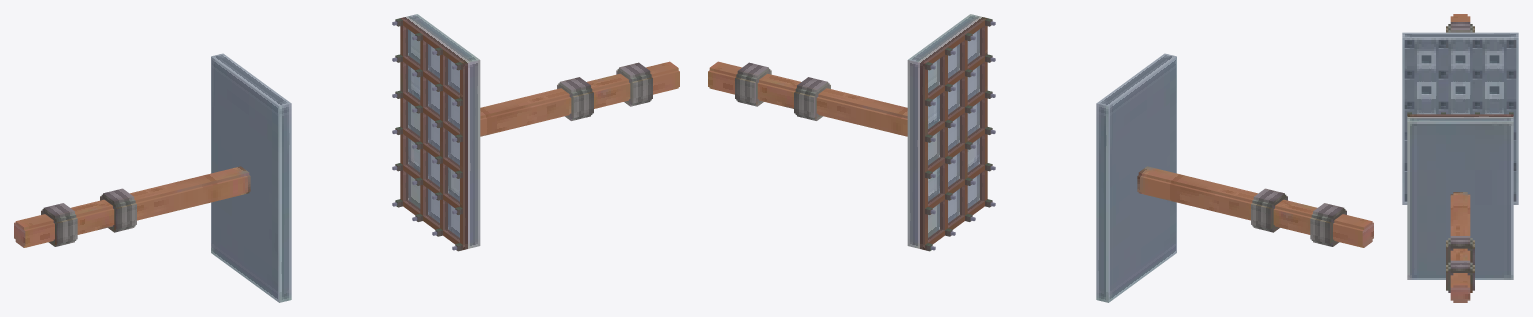
Rendered from trap-23_2.glb.
3 views of the same model, side by side, from view 1: azimuth 30°, elevation 25°; view 2: azimuth 150°, elevation 25°; view 3: azimuth 270°, elevation 25° (orthographic). The views are drawn at different scales.
Visible parts, largest first — view 1: Base$$(1)-Local; view 2: Base$$(1)-Local; view 3: Base$$(1)-Local.
Part boxes in pixels (x1,y1,x2,y2): Base$$(1)-Local: (14,14,679,302); Base$$(1)-Local: (708,14,1373,302); Base$$(1)-Local: (1402,14,1518,302).
Size of the model in its own units: 5.52 by 1.58 by 1.
Materials: 4 (4 with a texture image).
